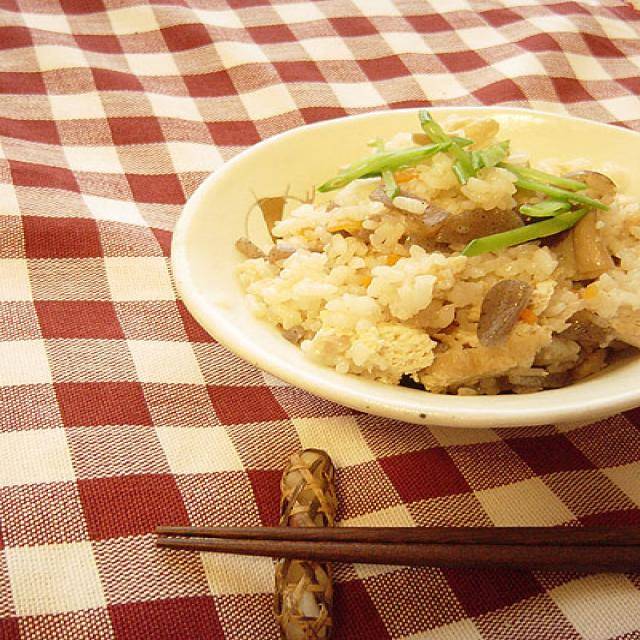米饭主食: (240, 148, 640, 374)
